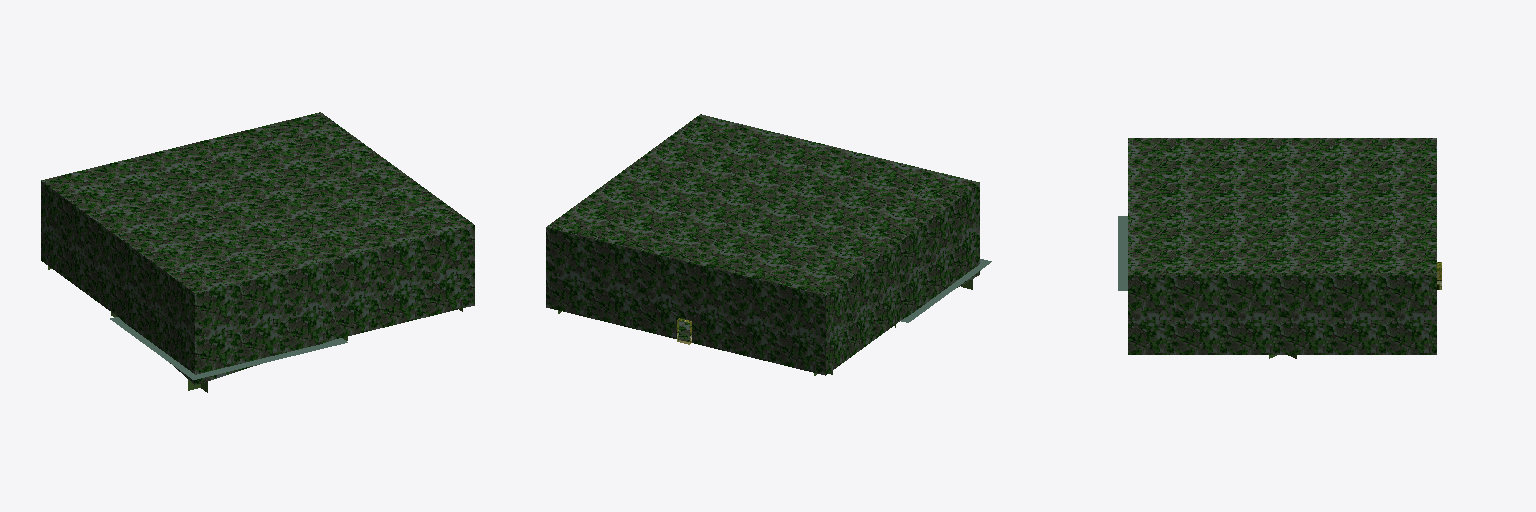
3 renders of one model, left to right at view 1: azimuth 30°, elevation 25°; view 2: azimuth 150°, elevation 25°; view 3: azimuth 270°, elevation 25°, orthographic.
Visible parts, largest first — view 1: mesh.003; view 2: mesh.003; view 3: mesh.003.
Part boxes in pixels (left/top/right/bottom): mesh.003: left=41, top=112, right=474, bottom=392; mesh.003: left=546, top=114, right=991, bottom=375; mesh.003: left=1118, top=138, right=1441, bottom=358.
Bounding box in the file's own units: 1373 × 468 × 1344.
Materials: 5 (2 with a texture image).